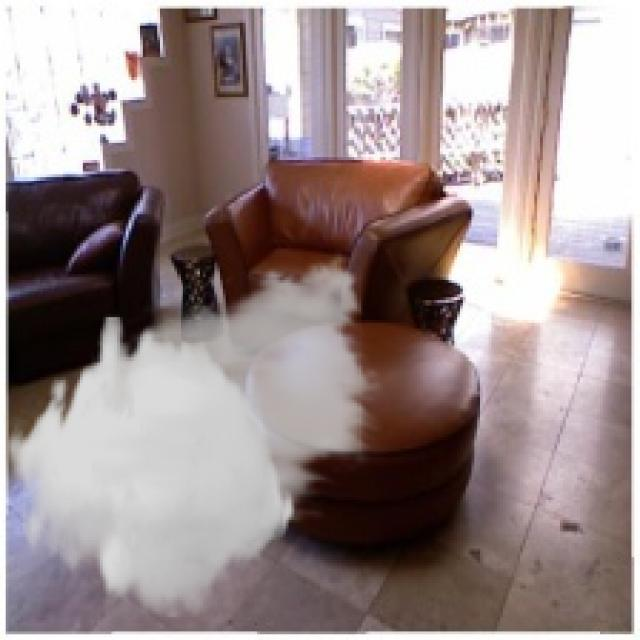smoke: (6, 246, 383, 617)
